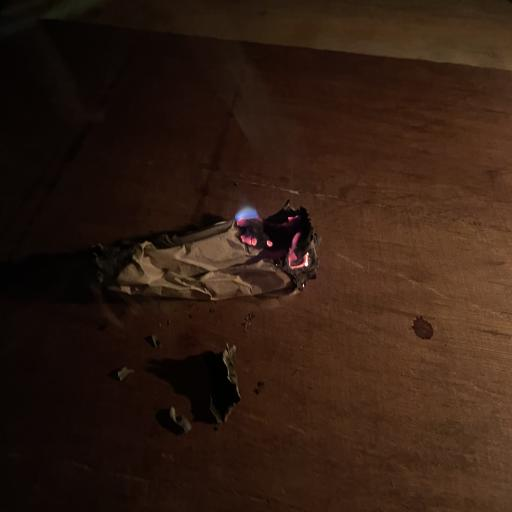fire: (236, 200, 321, 291), (62, 460, 151, 487)
